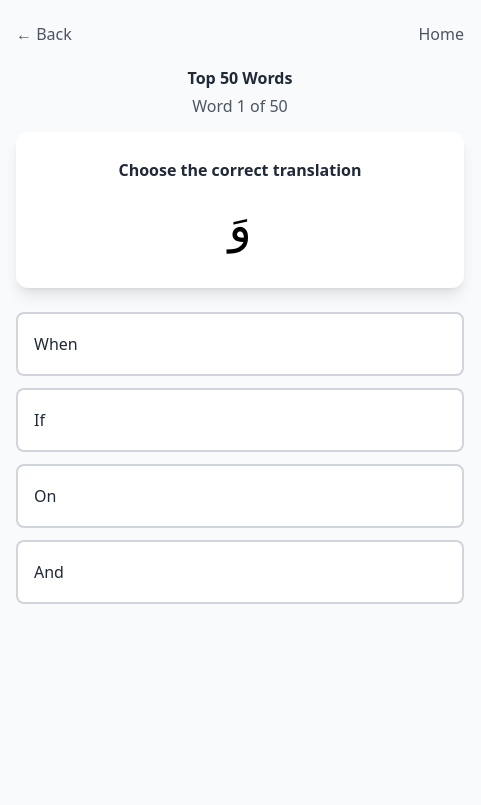
Test: Word Practice Page Integration Tests › Navigation › should move to next word after answering
Click the button "And": (49, 572) [16,540,464,604]
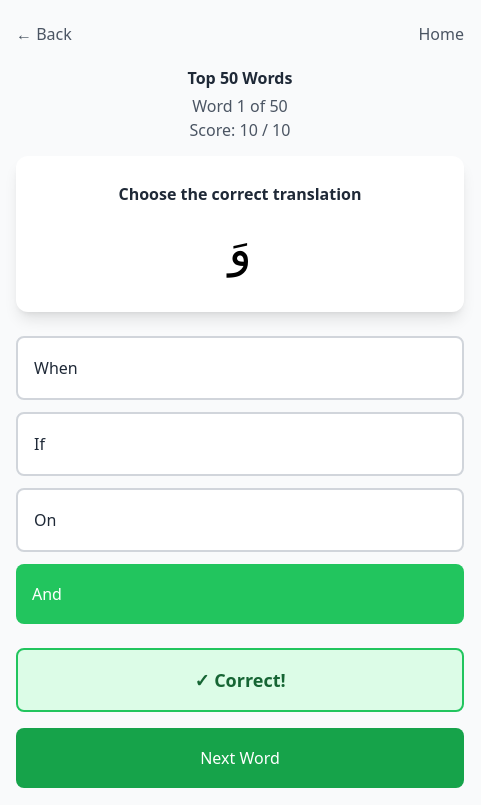
Now the button "Next Word" is shown
Click the button "Next Word": (240, 758) [16,728,464,788]
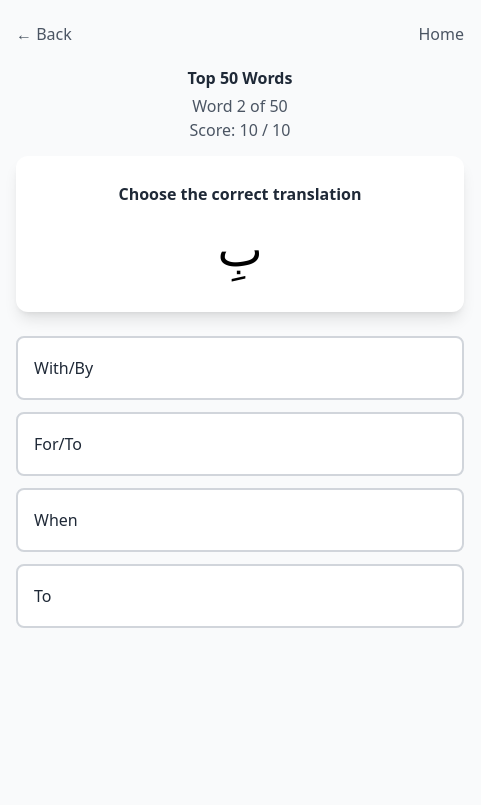
Now the text "بِ" is shown, box [217,215,263,280]
